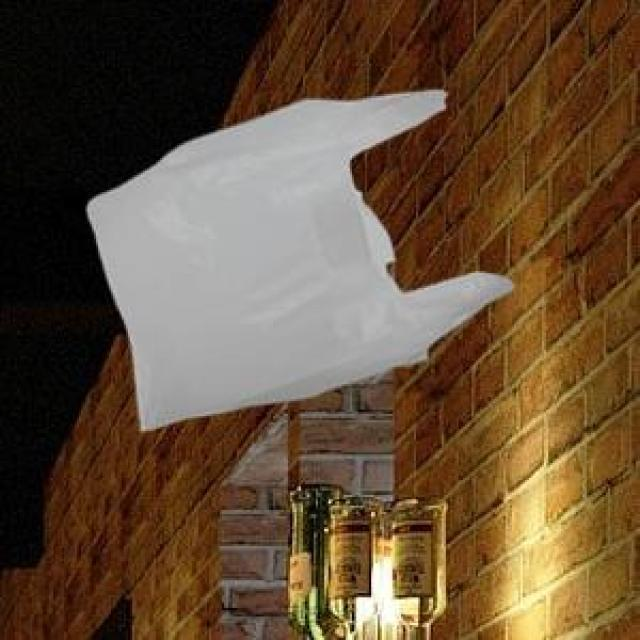waste: (89, 90, 510, 429)
